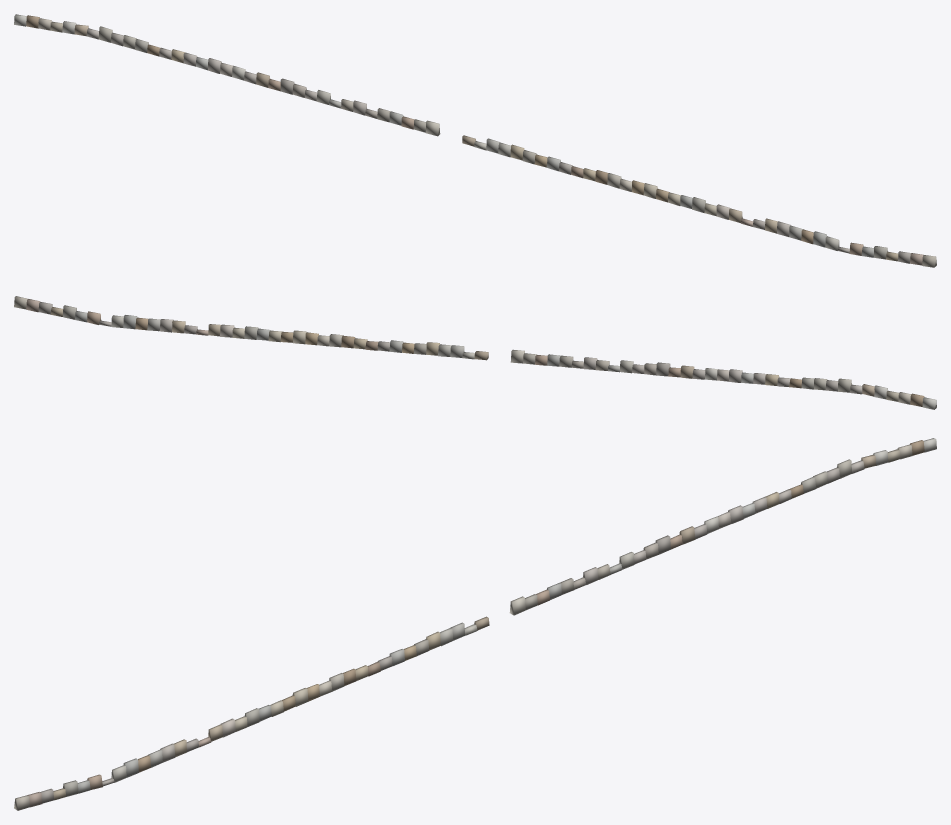
Rendered from farm_-10_6_far.glb.
3 views of the same model, one above another, from view 1: azimuth 30°, elevation 25°; view 2: azimuth 210°, elevation 25°; view 3: azimuth 270°, elevation 25° (orthographic). The views are drawn at different scales.
Visible parts, largest first — view 1: geometry_0; view 2: geometry_0; view 3: geometry_0.
Part boxes in pixels (bbox=[...]): geometry_0: bbox=[14, 14, 936, 267]; geometry_0: bbox=[14, 296, 936, 409]; geometry_0: bbox=[14, 438, 936, 810].
Size of the model in its own units: 71.68 by 11.23 by 98.15.
